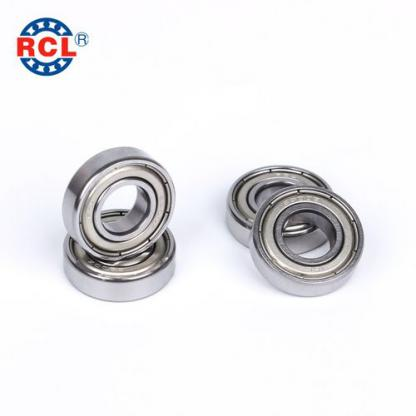FOD: (58, 143, 176, 263), (246, 182, 366, 299), (58, 203, 177, 306), (223, 161, 338, 253)
